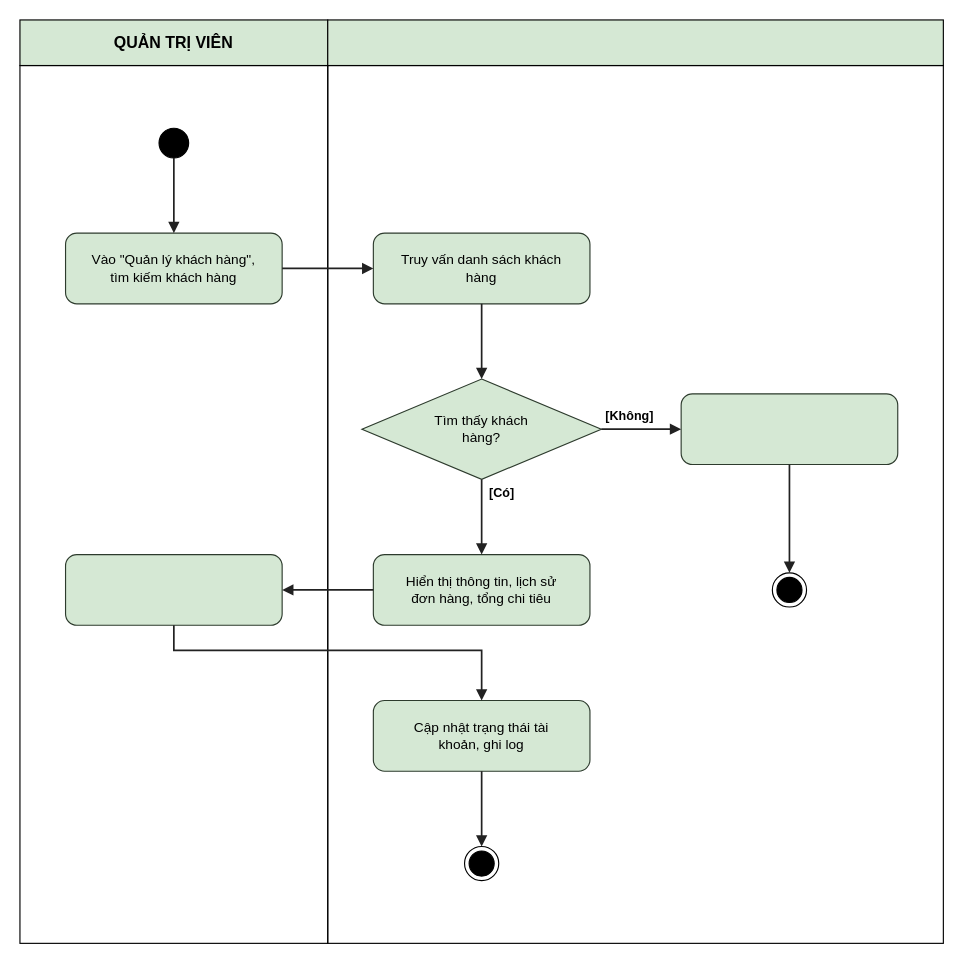
Image size: 963x963. Some labels were removed from this diagram. Each missing label, with the centre of its shape:
Chọn "Khóa" hoặc "Mở khóa" và xác nhận: point 173,589
HỆ THỐNG: point 635,42
Thông báo không tìm thấy khách hàng: point 789,429
